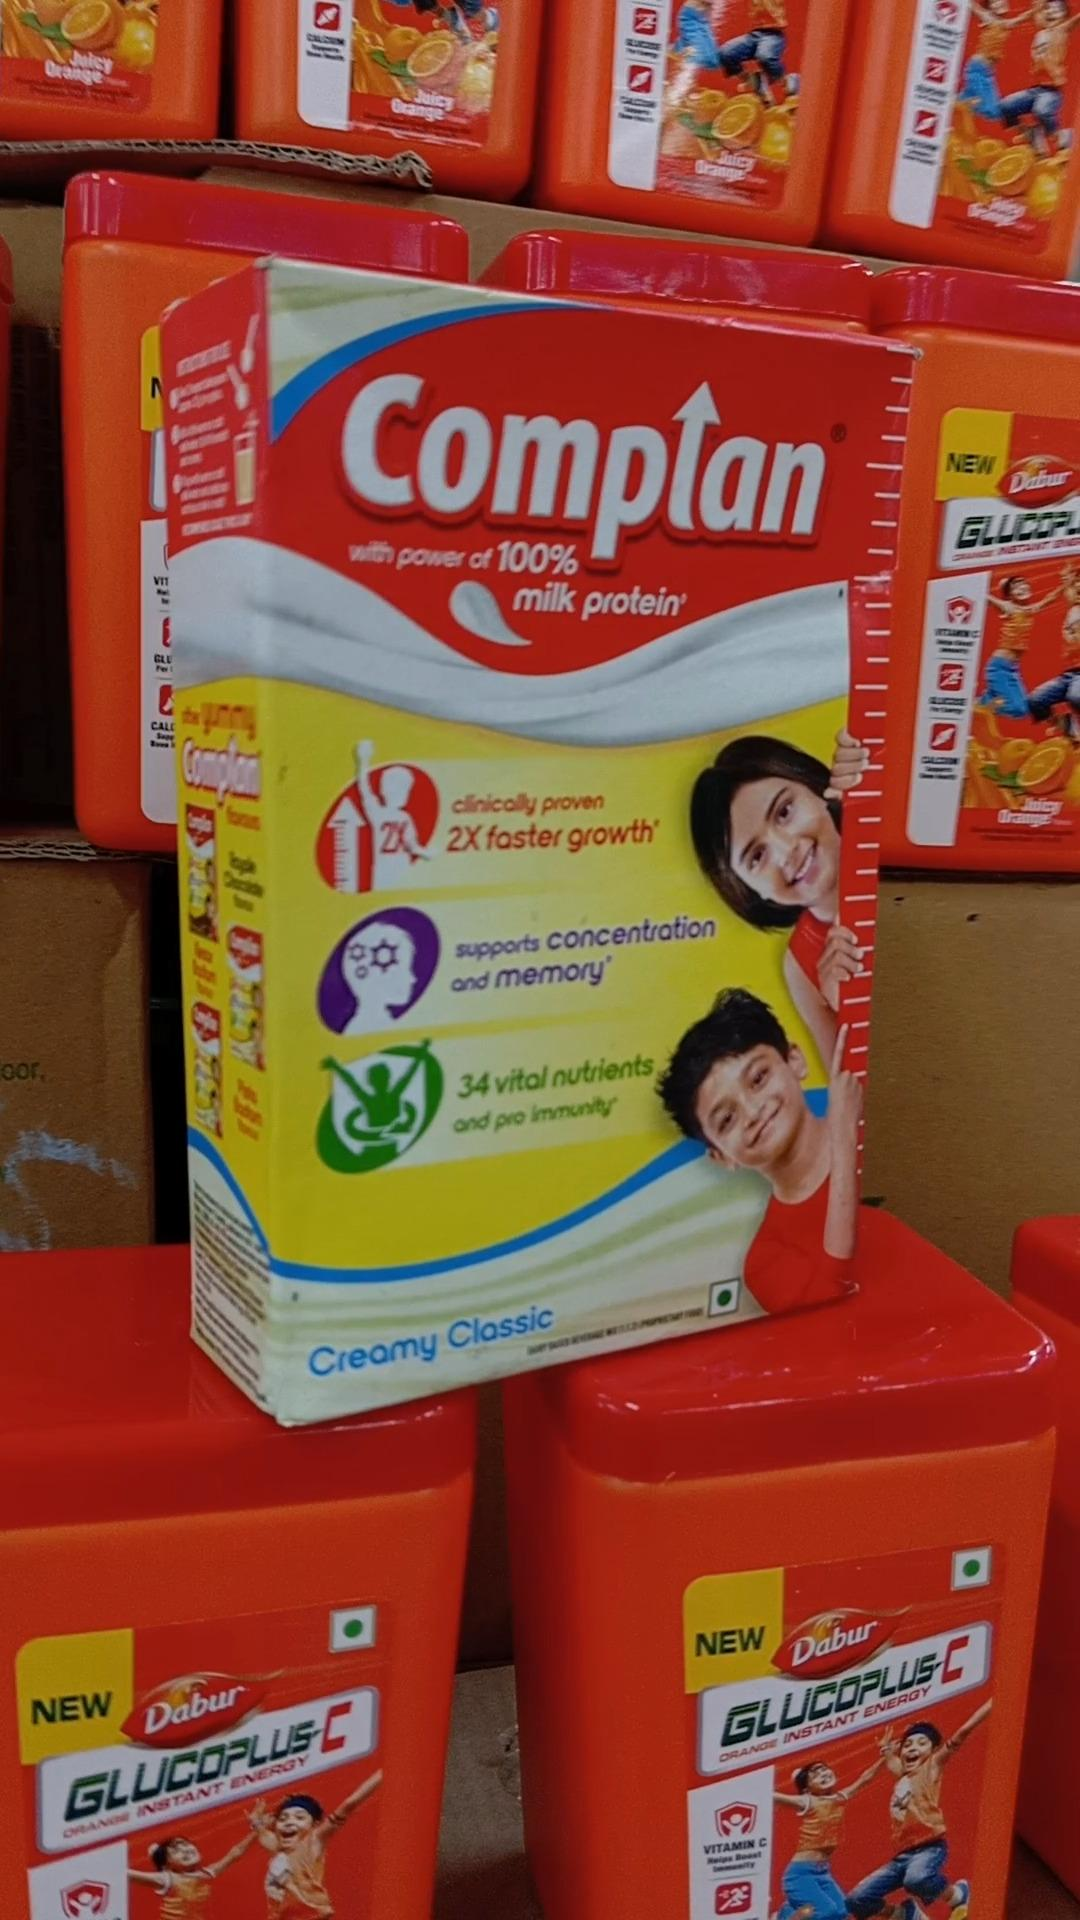COMPLAN_CREAMY_CLASSIC_500_G_PACK: (276, 285, 899, 1422)
